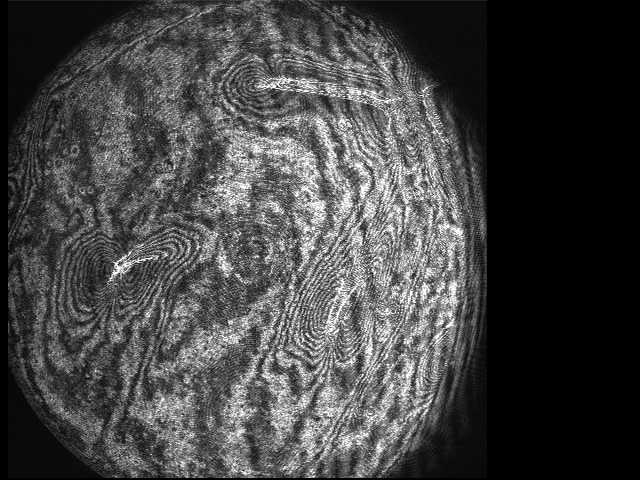plume: (63, 227, 203, 318)
